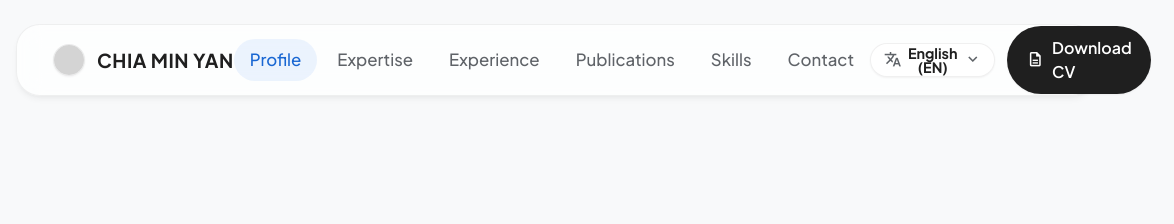
HeaderComponent › language dropdown › selecting ms closes the menu, re-renders the header and marks 2 when reopened
Click the button with class "lang-dropdown-trigger" at (933, 60), box [870,43,995,77]
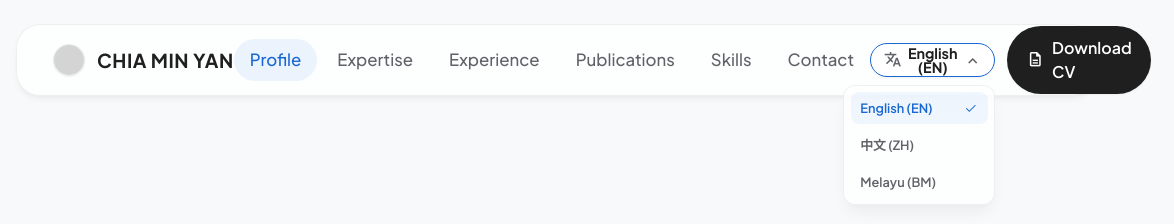
Click the button with class "menu-item" showing "Melayu (BM)" at (919, 182), box [851,166,988,198]
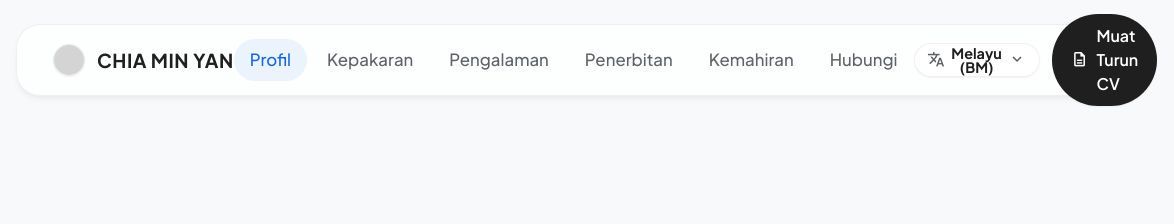
Expected: the element with class "lang-dropdown-menu" is gone
Expected: the text with class "desktop-only" reads "Melayu (BM)", [951,44,1002,76]
Expected: the link with class "nav-link" reads "Profil", [234,39,307,81]
# Reopen the menu to verify the check icon moved to the active language, then switch back to English.
Click the button with class "lang-dropdown-trigger" at (977, 60), box [914,43,1040,77]
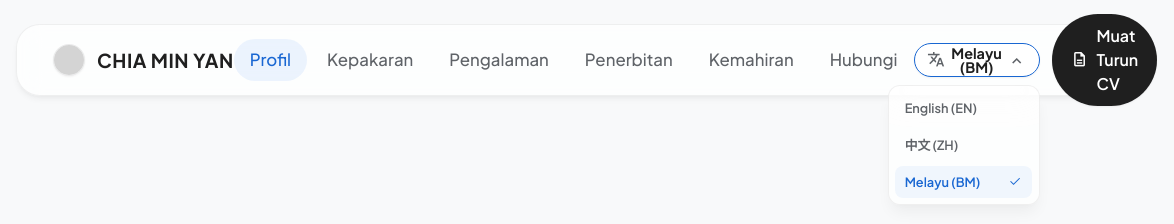
Expected: the number of icons with class "check-icon" is 1, [1008,174,1023,189]
Click the button with class "menu-item" showing "English (EN)" at (964, 108), box [895,92,1032,124]
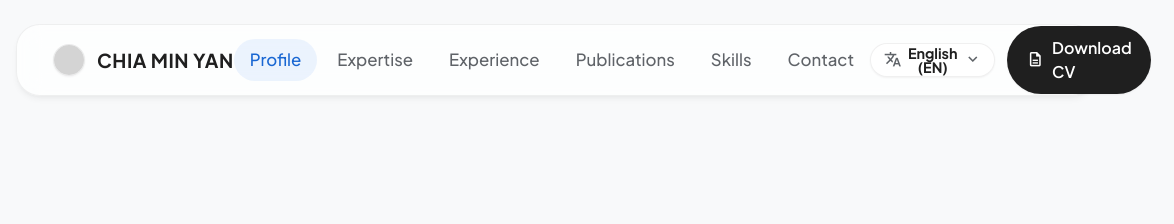
Expected: the text with class "desktop-only" reads "English (EN)", [908,44,958,76]
